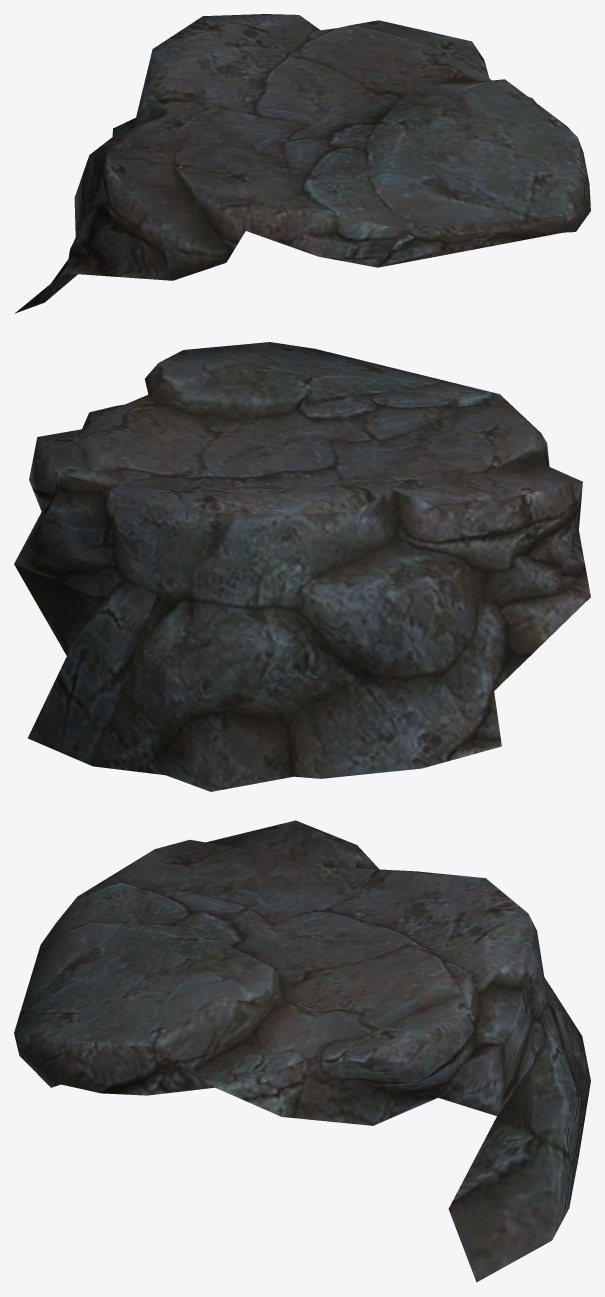
The model's file is S_Rock_Yellow036_H20.FBX.
The picture shows the model from 3 angles, top to bottom: view 1: azimuth 30°, elevation 25°; view 2: azimuth 150°, elevation 25°; view 3: azimuth 270°, elevation 25°; orthographic projection. The views are drawn at different scales.
Parts seen in each view (by area): view 1: S_Rock_Yellow036_H20; view 2: S_Rock_Yellow036_H20; view 3: S_Rock_Yellow036_H20.
Part boxes in pixels (left/top/right/bottom): S_Rock_Yellow036_H20: left=15, top=14, right=590, bottom=313; S_Rock_Yellow036_H20: left=14, top=342, right=590, bottom=791; S_Rock_Yellow036_H20: left=14, top=820, right=590, bottom=1282.
Size of the model in its own units: 747 by 727 by 402.
Materials: 1 (1 with a texture image).
